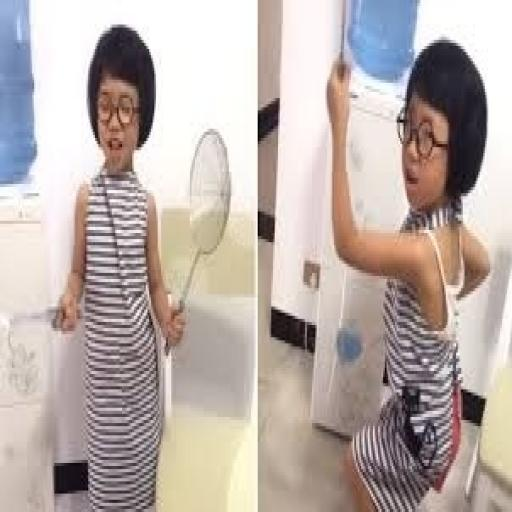dancing: (324, 34, 493, 509), (51, 21, 188, 509)
